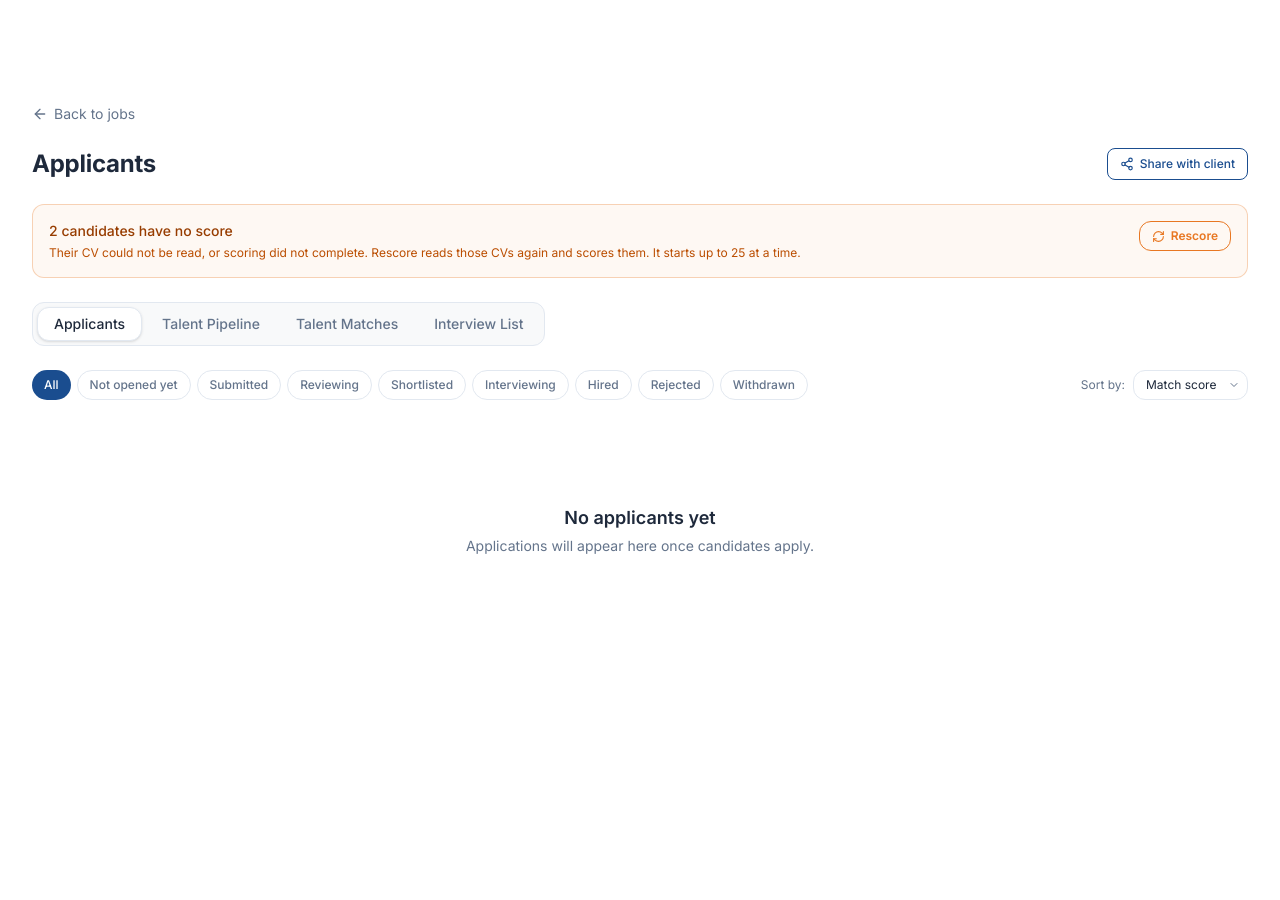
Scenario: ApplicantsPage, applicants with no score › Rescore › shows the plan limit with an upgrade link when the plan does not include it
Expected: the text "2 candidates have no score" is shown, top-left (49, 222), bottom-right (233, 239)
Click the button "Rescore" at (1185,236), box top-left (1139, 221), bottom-right (1231, 251)
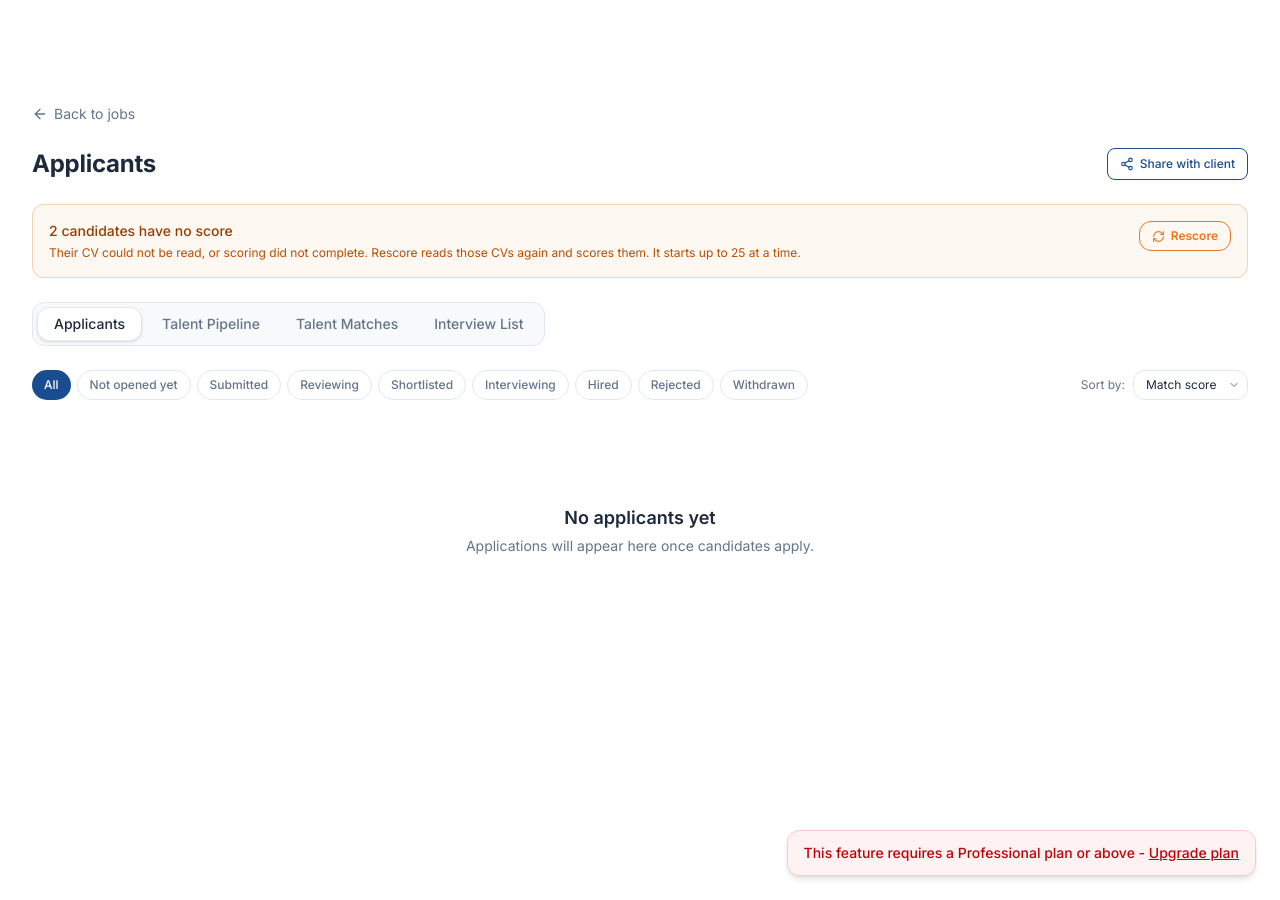
Expected: the text "This feature requires a Professional plan or above - Upgrade plan" is shown, top-left (786, 830), bottom-right (1256, 876)
Expected: the link "Upgrade plan" is shown, top-left (1149, 844), bottom-right (1239, 861)
